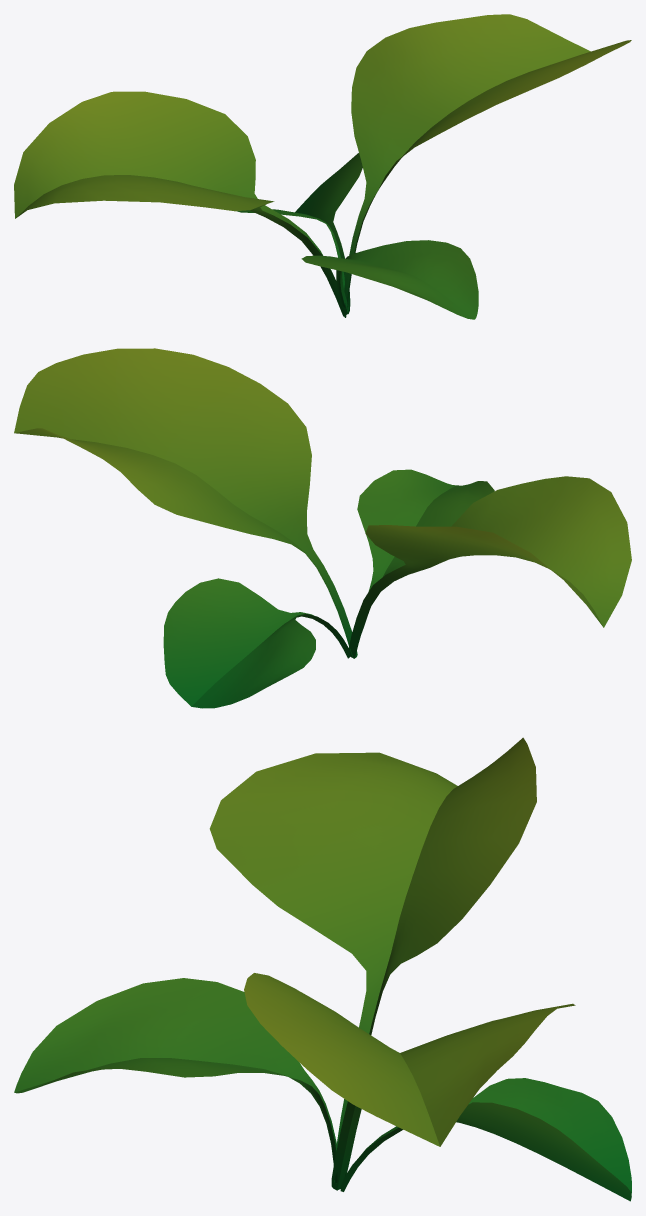
The model's file is nettle_plant_3.glb.
3 views of the same model, one above another, from view 1: azimuth 30°, elevation 25°; view 2: azimuth 150°, elevation 25°; view 3: azimuth 270°, elevation 25° (orthographic). The views are drawn at different scales.
Parts seen in each view (by area): view 1: nettle_plant_small_b_LOD0; view 2: nettle_plant_small_b_LOD0; view 3: nettle_plant_small_b_LOD0.
Part boxes in pixels (x1=…): nettle_plant_small_b_LOD0: x1=14, y1=14, x2=631, y2=319; nettle_plant_small_b_LOD0: x1=14, y1=348, x2=631, y2=708; nettle_plant_small_b_LOD0: x1=14, y1=737, x2=631, y2=1201.
Bounding box in the file's own units: 0.0597 × 0.0217 × 0.0385.
